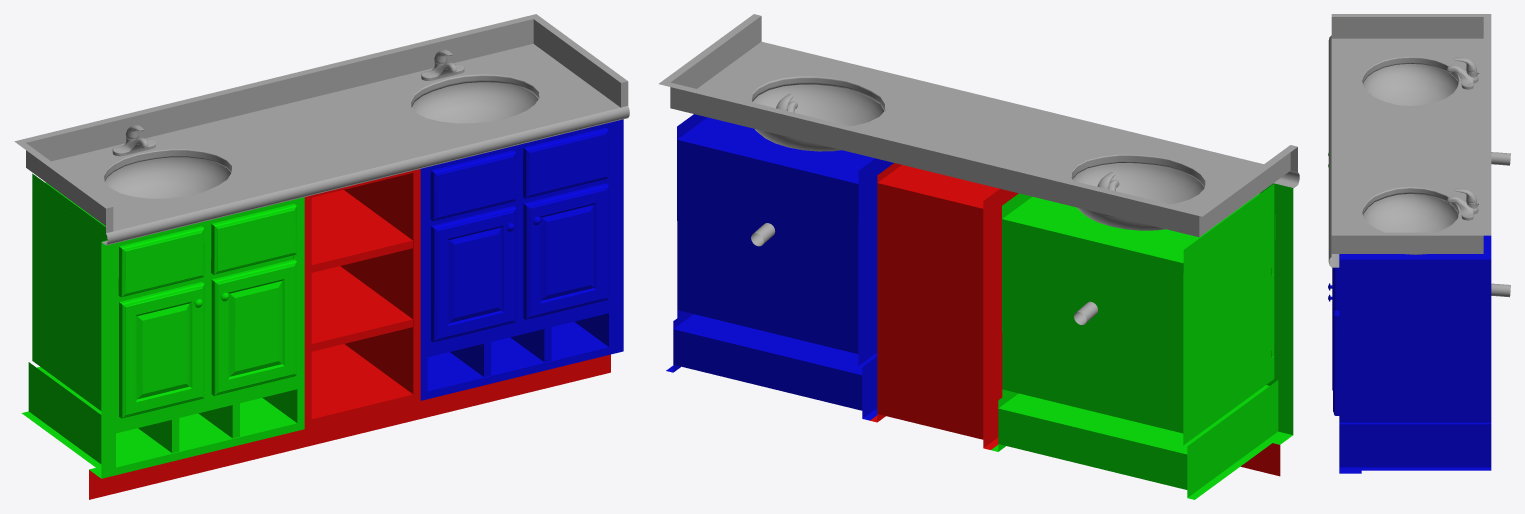
File: bathroomCabinet_Counter_1.fbx
The picture shows the model from 3 angles, left to right: view 1: azimuth 30°, elevation 25°; view 2: azimuth 150°, elevation 25°; view 3: azimuth 270°, elevation 25°; orthographic projection. The views are drawn at different scales.
Parts seen in each view (by area): view 1: counter_1, cabinet_left_1, cabinet_center_1, cabinet_right_1, cabinet_right_door_right_1, cabinet_left_door_right_1, cabinet_right_door_left_1, cabinet_left_door_left_1; view 2: cabinet_left_1, counter_1, cabinet_right_1, cabinet_center_1; view 3: counter_1, cabinet_right_1, cabinet_right_door_right_1.
Boxes of the visible parts, x1=… form: counter_1: x1=14, y1=14, x2=629, y2=245; cabinet_left_1: x1=21, y1=173, x2=304, y2=478; cabinet_center_1: x1=89, y1=169, x2=610, y2=499; cabinet_right_1: x1=420, y1=119, x2=623, y2=400; cabinet_right_door_right_1: x1=523, y1=183, x2=608, y2=319; cabinet_left_door_right_1: x1=211, y1=259, x2=296, y2=395; cabinet_right_door_left_1: x1=431, y1=206, x2=516, y2=342; cabinet_left_door_left_1: x1=119, y1=282, x2=204, y2=418; cabinet_left_1: x1=991, y1=183, x2=1293, y2=499; counter_1: x1=659, y1=14, x2=1299, y2=324; cabinet_right_1: x1=666, y1=114, x2=893, y2=420; cabinet_center_1: x1=870, y1=163, x2=1280, y2=476; counter_1: x1=1328, y1=14, x2=1510, y2=297; cabinet_right_1: x1=1333, y1=235, x2=1491, y2=473; cabinet_right_door_right_1: x1=1328, y1=285, x2=1339, y2=415.
Bounding box in the file's own units: 183 × 102 × 63.74.
